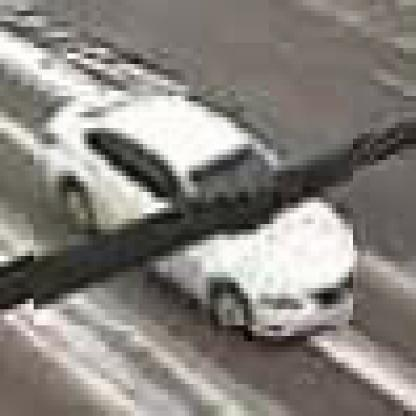car: (35, 97, 358, 332)
